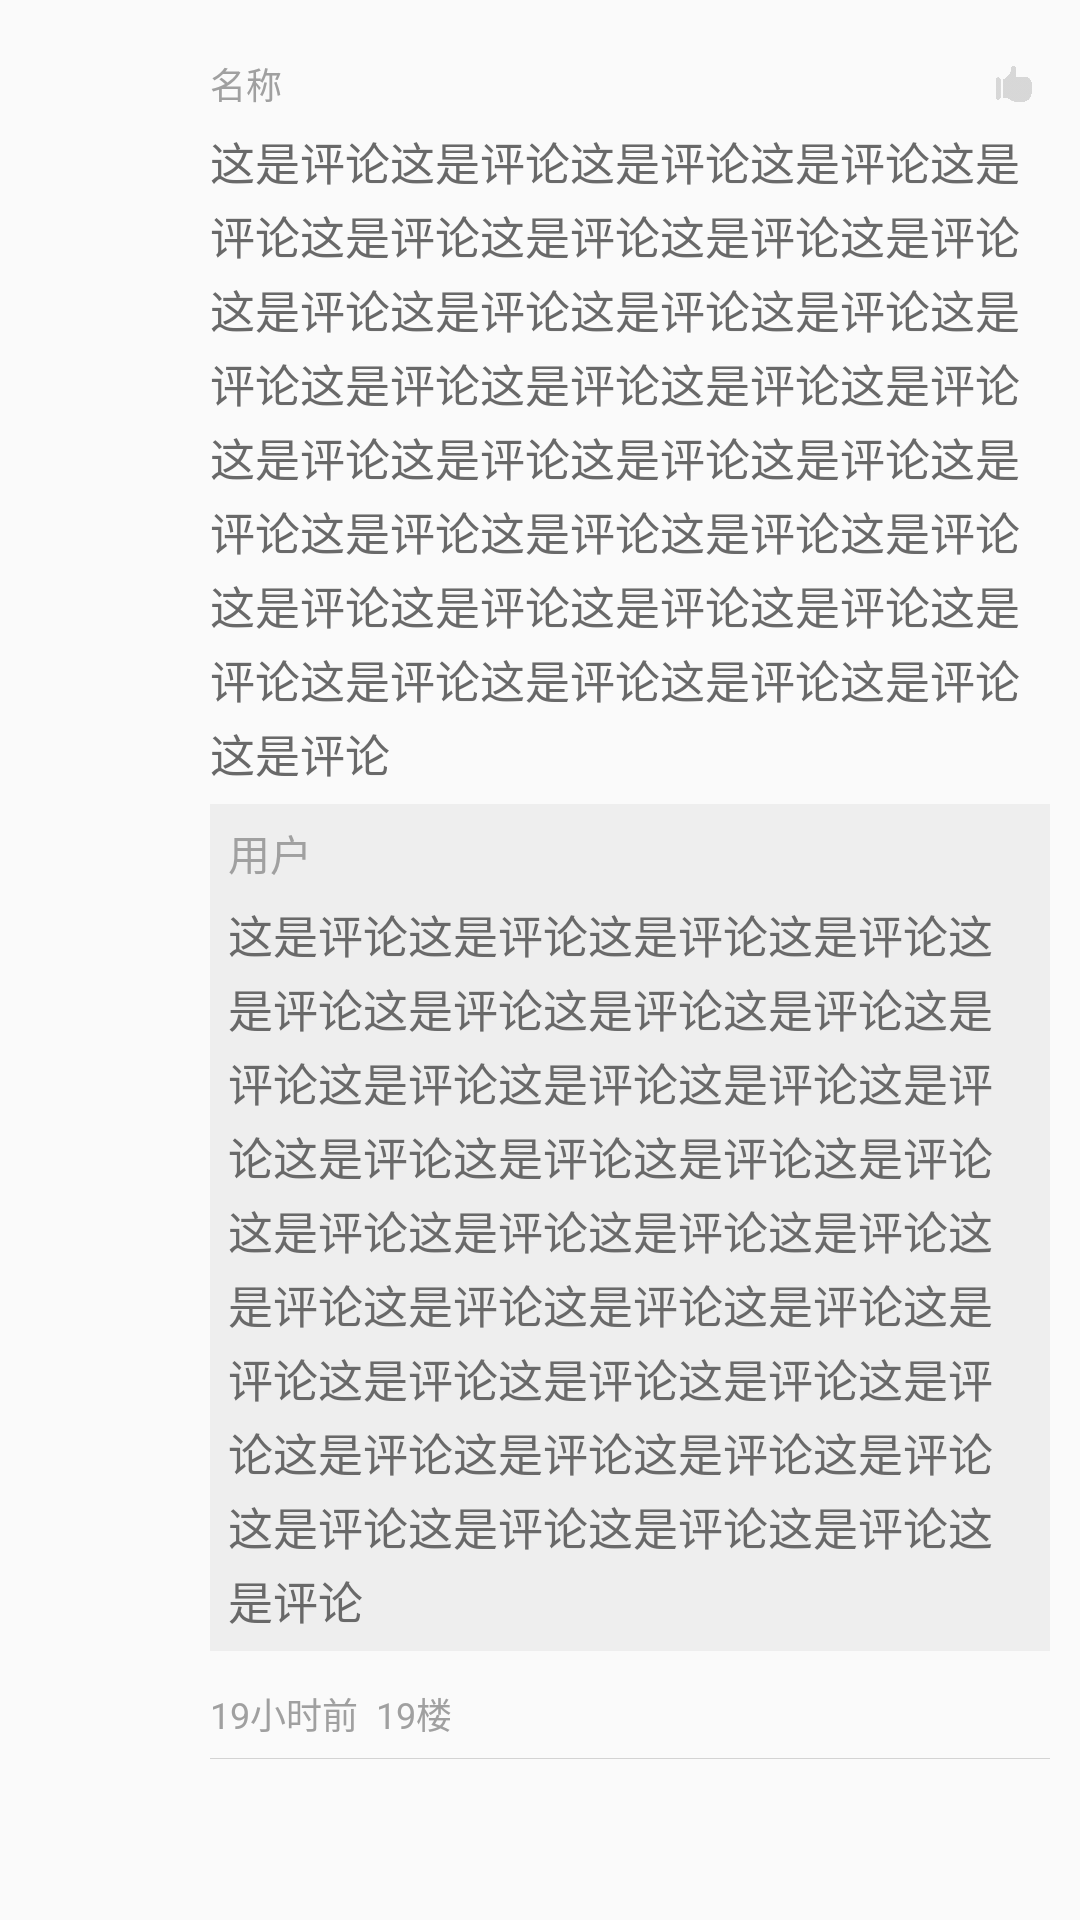

Icons on this 1080x1920 Android screen, each with the point to tap as (x=x, y=y):
good: (x=1014, y=84)
